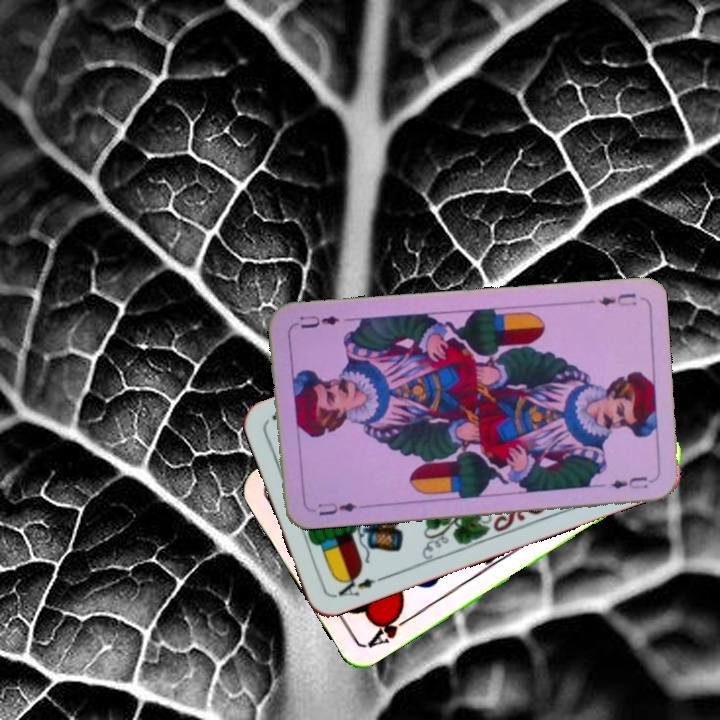EA: (331, 569, 388, 600)
EU: (313, 498, 360, 518), (595, 289, 639, 308)
HA: (363, 604, 416, 651)
